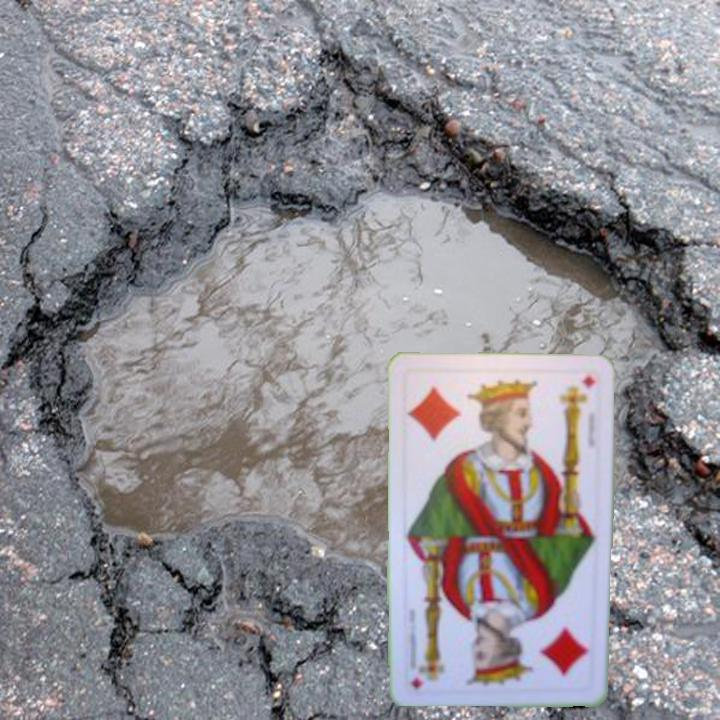d_k.png: (403, 367, 503, 454), (497, 604, 597, 690)
